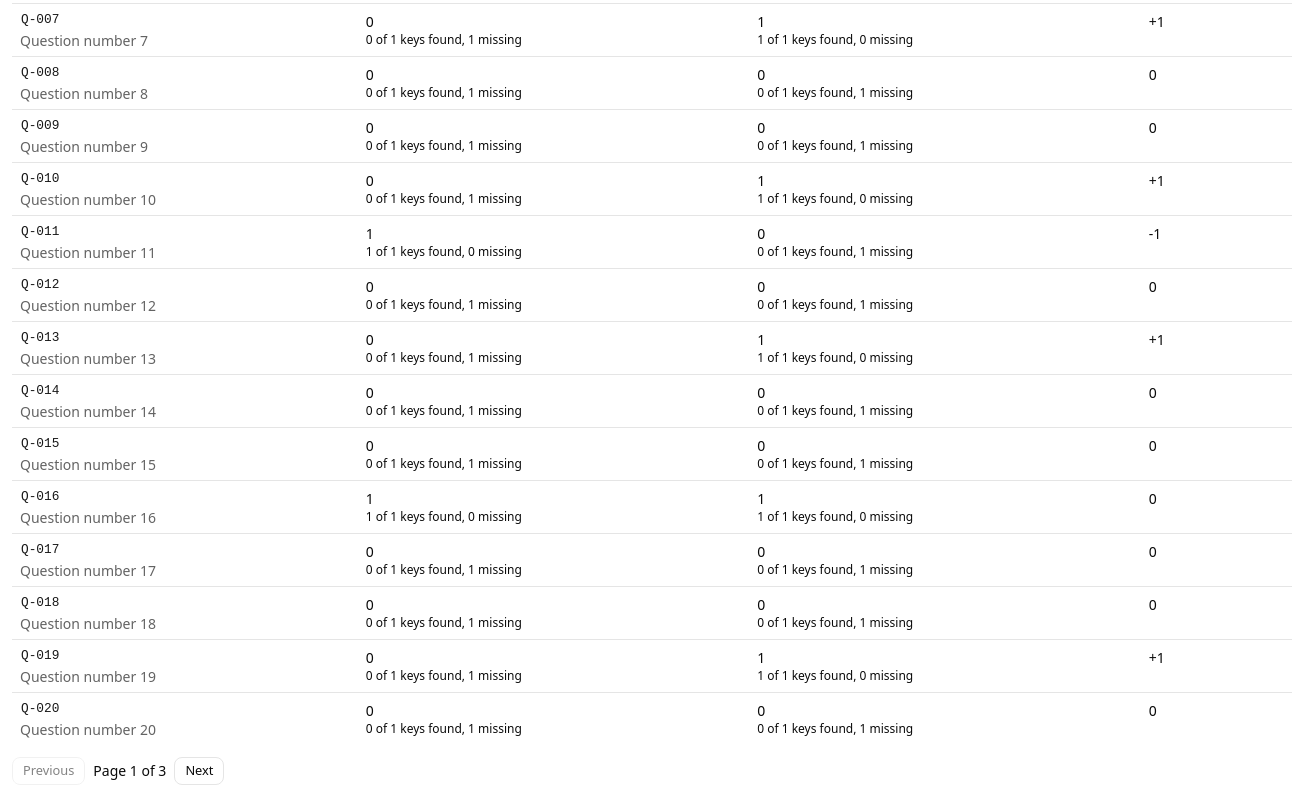
it: the question table of a long set › shows twenty questions at a time and moves between pages
(page scrolled)
Expected: the text "Page 1 of 3" is shown, [93,760,166,780]
Expected: the button "Previous" is disabled, [12,756,85,784]
Click the button "Next" at point(199, 770), box [174,756,224,784]
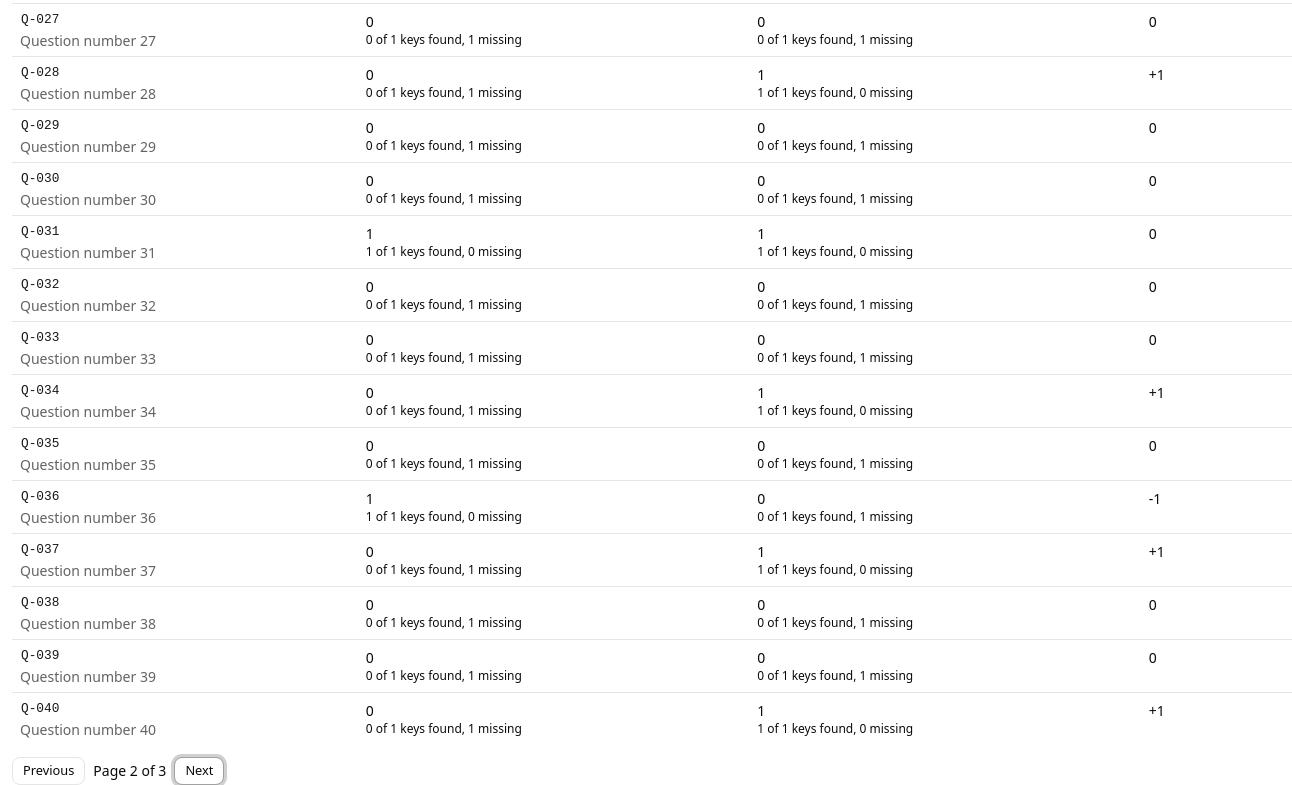
Now the text "Page 2 of 3" is shown, box [93,760,166,780]
Click the button "Next" at point(199, 770), box [174,756,224,784]
(page scrolled)
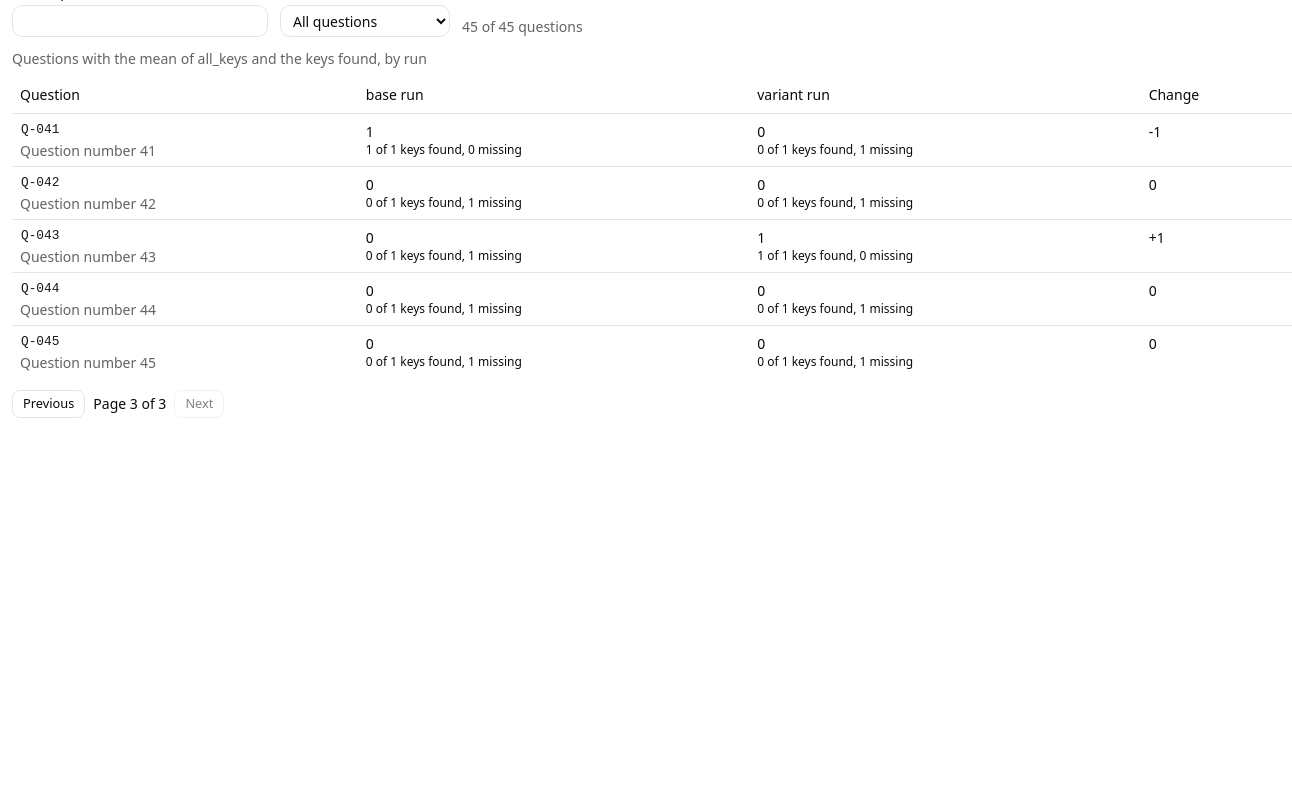
Now the button "Next" is disabled, box [174,390,224,418]
Click the button "Previous" at point(49, 404), box [12,390,85,418]
(page scrolled)
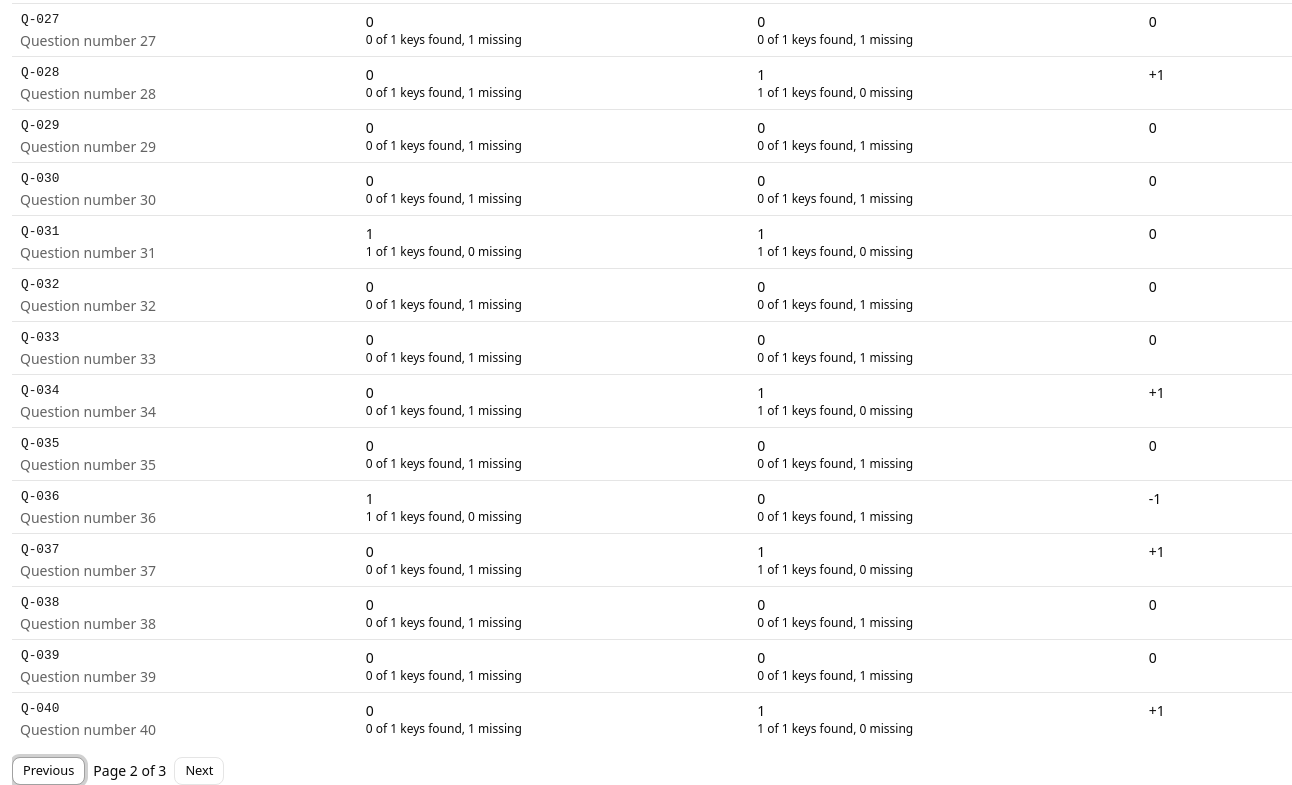
Now the text "Page 2 of 3" is shown, box [93,760,166,780]
